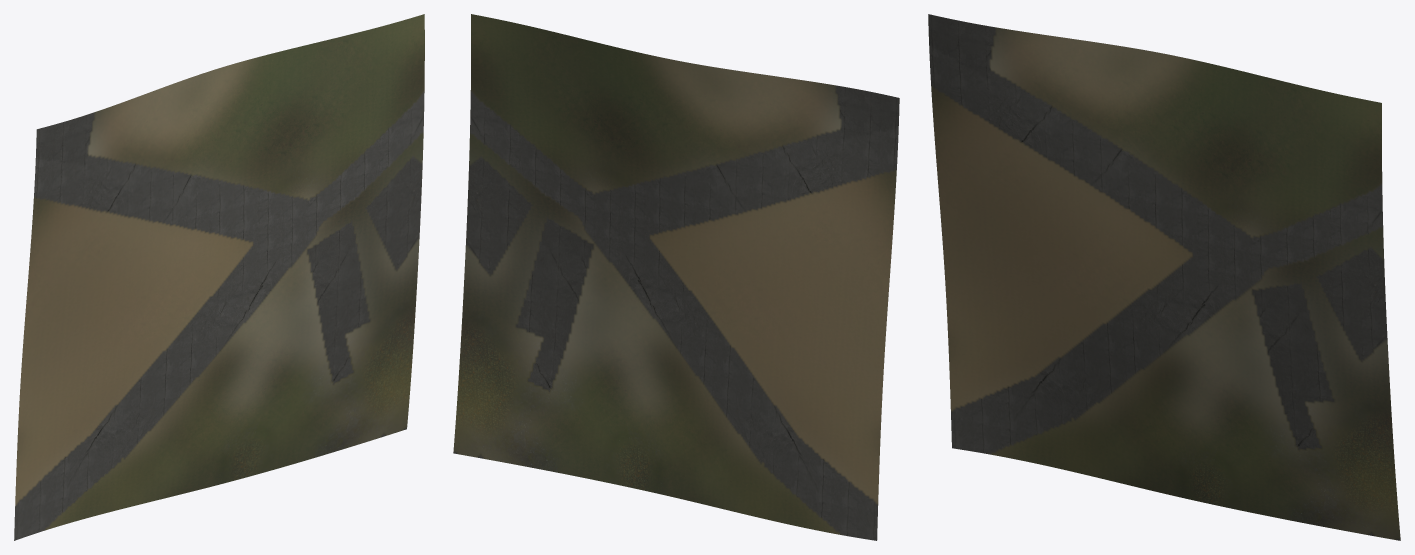
File: ground_core_07_05.obj
3 views of the same model, side by side, from view 1: azimuth 30°, elevation 25°; view 2: azimuth 150°, elevation 25°; view 3: azimuth 330°, elevation 25° (orthographic). The views are drawn at different scales.
Parts seen in each view (by area): view 1: ground_core_07_05; view 2: ground_core_07_05; view 3: ground_core_07_05.
Boxes of the visible parts, x1,y1,x2,y2 form: ground_core_07_05: [14, 14, 424, 540]; ground_core_07_05: [453, 14, 899, 540]; ground_core_07_05: [928, 14, 1400, 540].
Bounding box in the file's own units: 50 × 50 × 8.23.
Materials: 1 (1 with a texture image).
